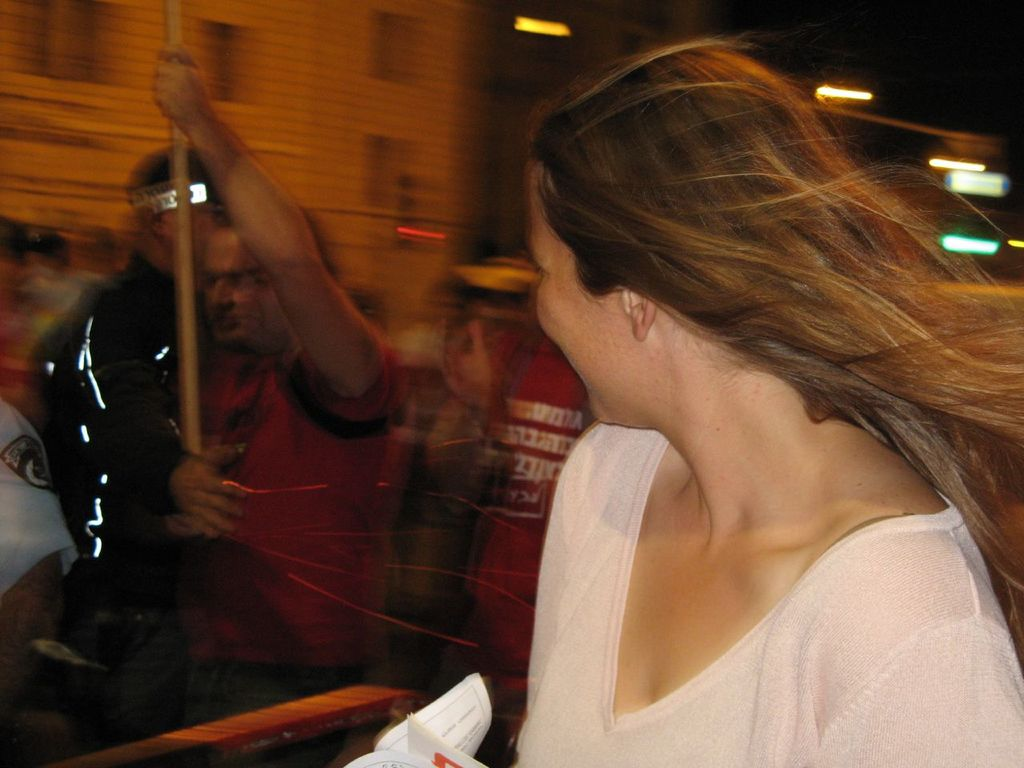Human_hand: (167, 442, 255, 544), (157, 42, 210, 133)
